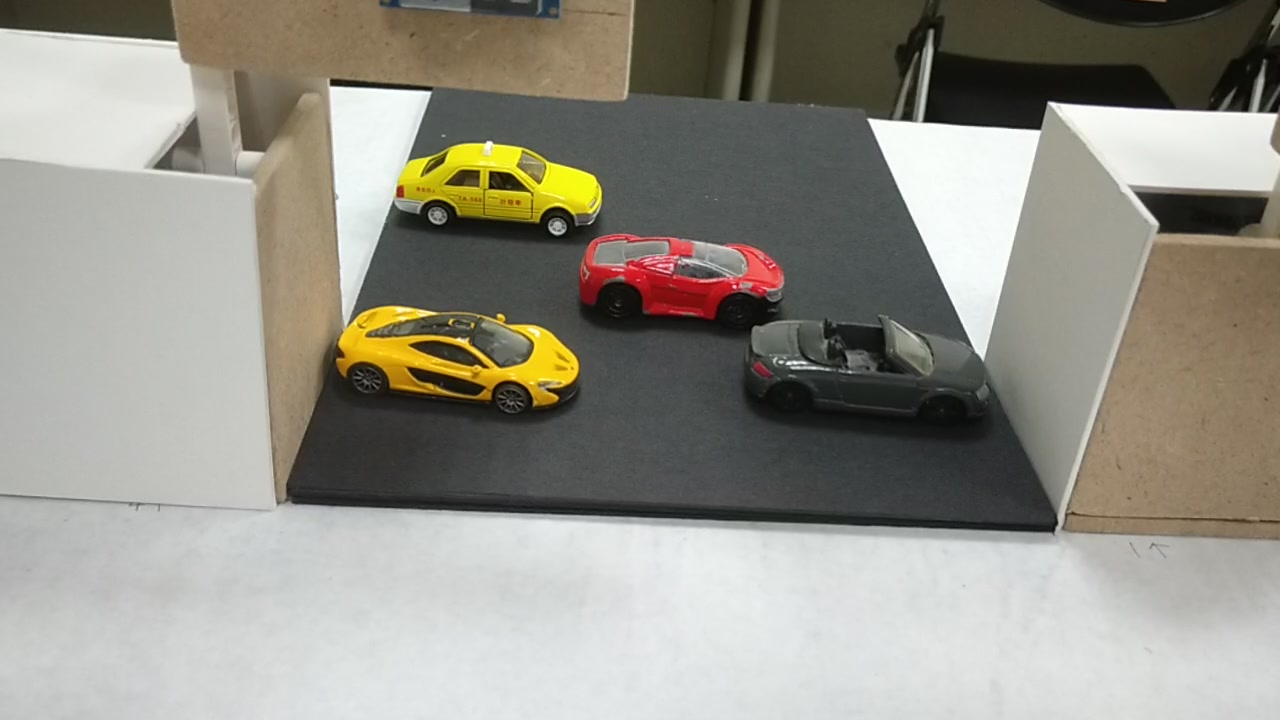car: (745, 313, 987, 424), (336, 303, 578, 413), (394, 147, 601, 236), (580, 234, 789, 321)
